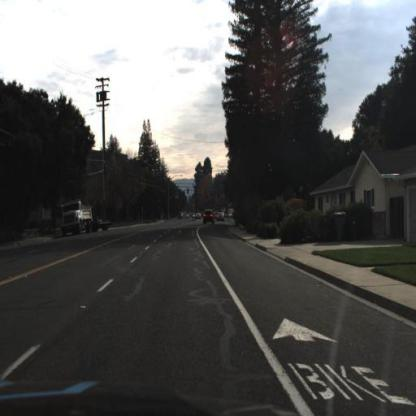car: (202, 208, 216, 226)
truck: (59, 199, 95, 239)
